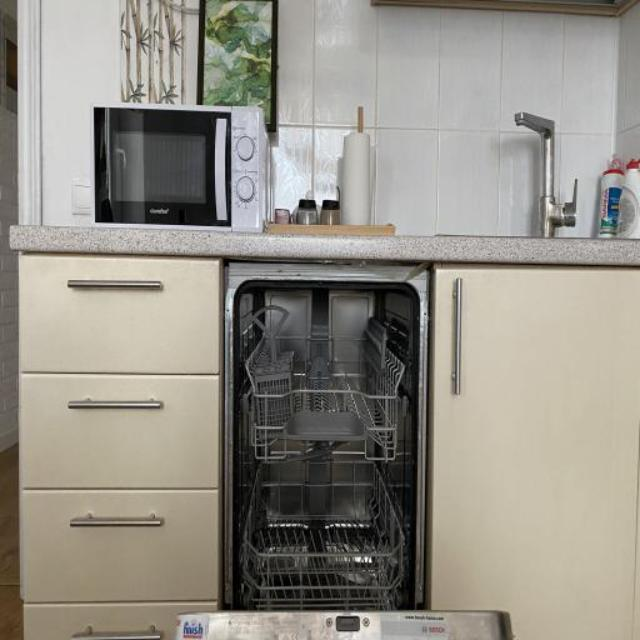Microwave: (90, 105, 266, 231)
